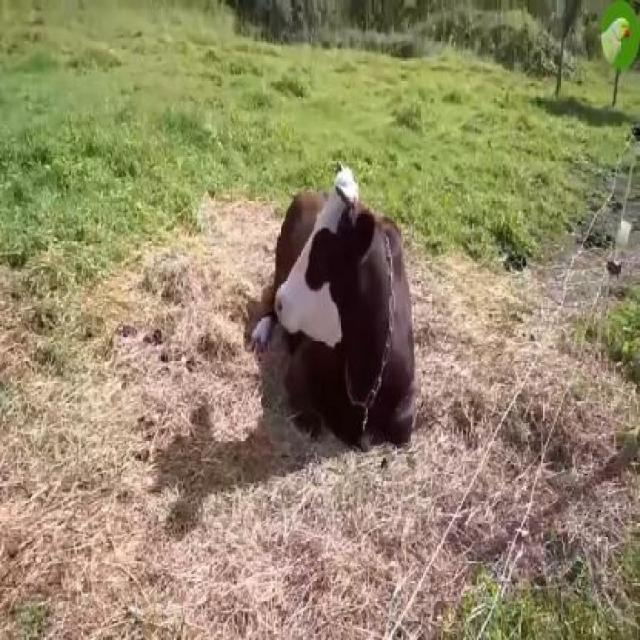Cow: (251, 172, 417, 446)
